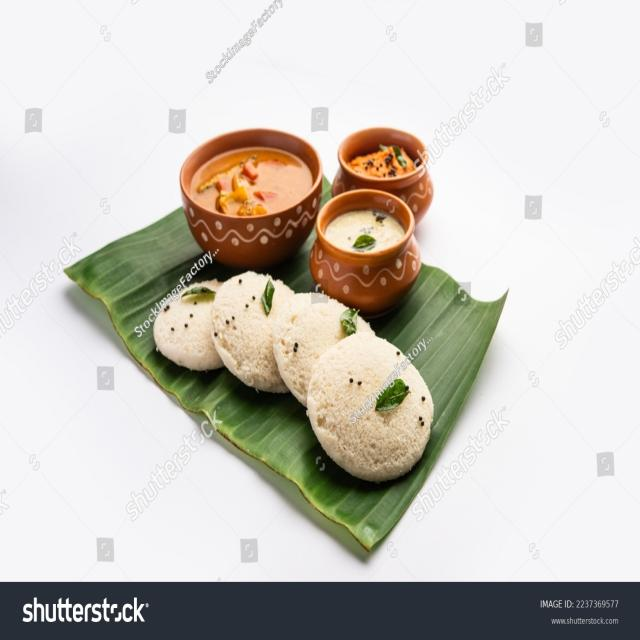IDLI: (303, 336, 435, 477), (275, 291, 375, 394), (216, 272, 288, 394), (155, 270, 225, 373)
